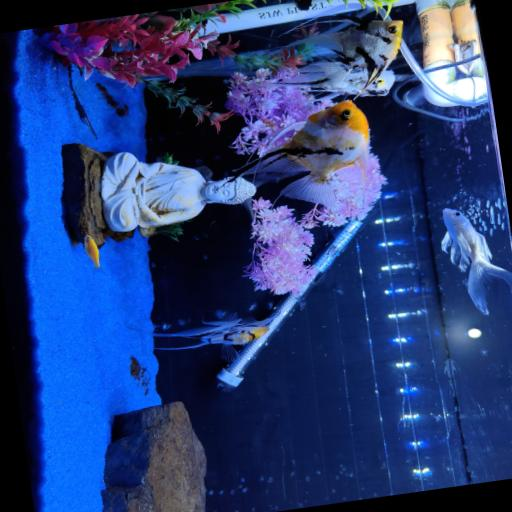Fish: (230, 100, 368, 207), (289, 17, 401, 94), (441, 208, 511, 314), (129, 313, 271, 361), (264, 66, 394, 101), (83, 234, 101, 271)
